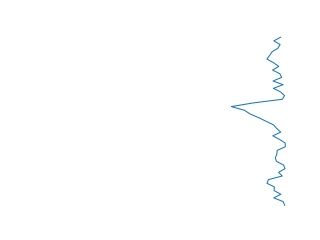interdistributaryEstuary: (227, 37, 293, 206)
